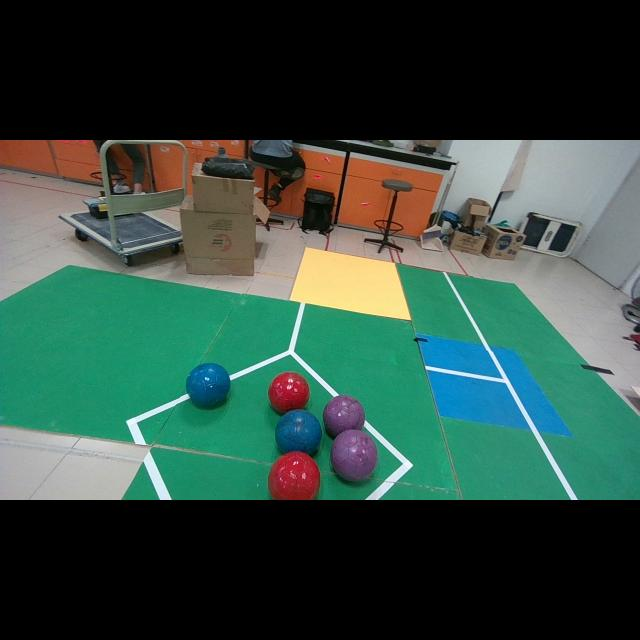B: (275, 409, 321, 454), (186, 362, 230, 406)
P: (331, 430, 378, 481), (322, 395, 365, 436)
R: (268, 451, 321, 500), (269, 371, 310, 412)
